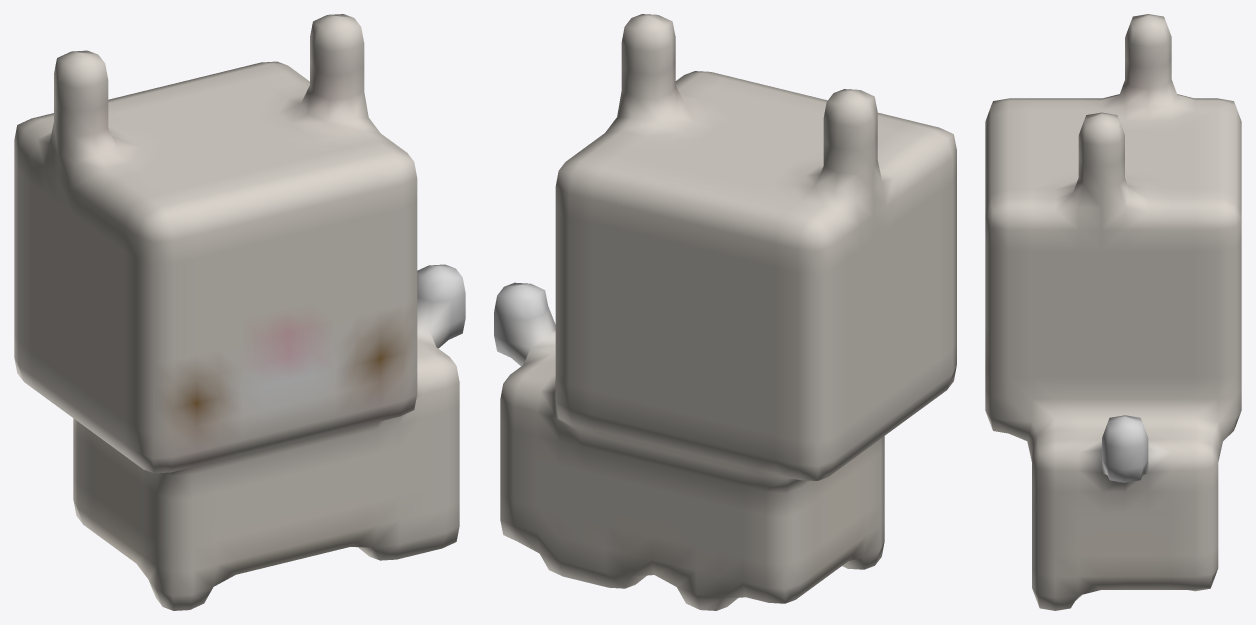
3 renders of one model, left to right at view 1: azimuth 30°, elevation 25°; view 2: azimuth 150°, elevation 25°; view 3: azimuth 270°, elevation 25°, orthographic. The views are drawn at different scales.
Size of the model in its own units: 0.85 by 1.1 by 0.55.
